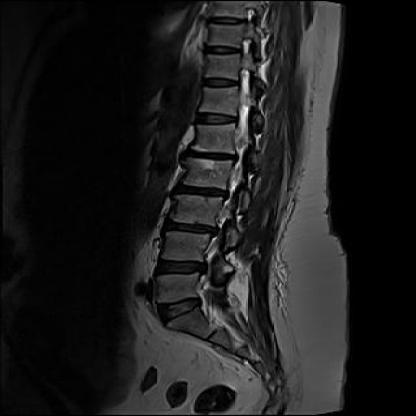Disc Bulgerotation: (149, 255, 210, 283), (178, 147, 242, 170), (167, 183, 234, 204), (160, 220, 223, 242)
